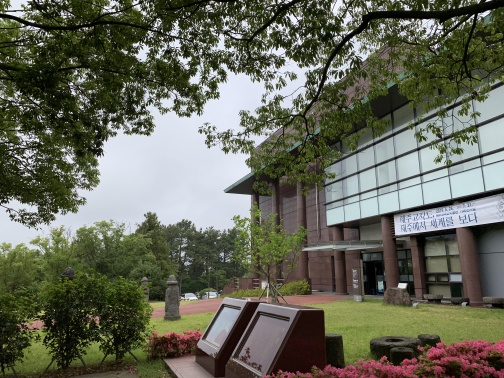Museum: (223, 86, 500, 314)
